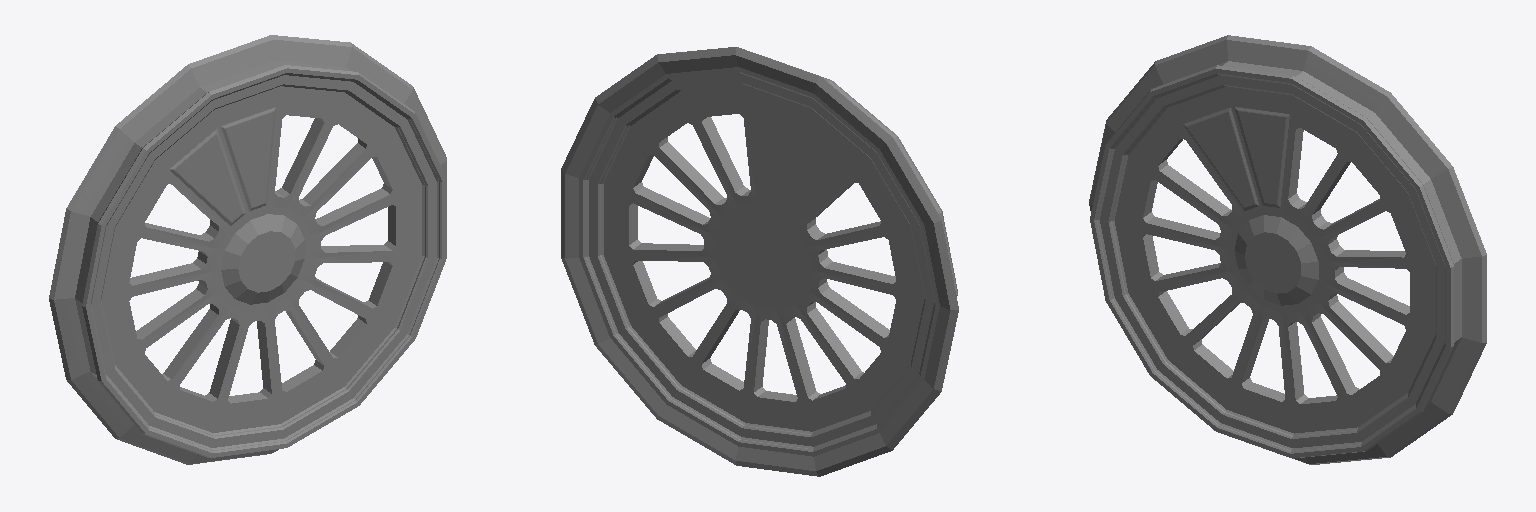
Rendered from right_back_big_wheel.obj.
The picture shows the model from 3 angles: view 1: azimuth 30°, elevation 25°; view 2: azimuth 150°, elevation 25°; view 3: azimuth 330°, elevation 25°; orthographic projection.
Visible parts, largest first — view 1: right_back_big_wheel; view 2: right_back_big_wheel; view 3: right_back_big_wheel.
Part boxes in pixels (x1,y1,x2,y2): right_back_big_wheel: (49, 35, 446, 464); right_back_big_wheel: (561, 47, 958, 476); right_back_big_wheel: (1089, 35, 1486, 464).
Bounding box in the file's own units: 17.91 × 18.01 × 1.57.